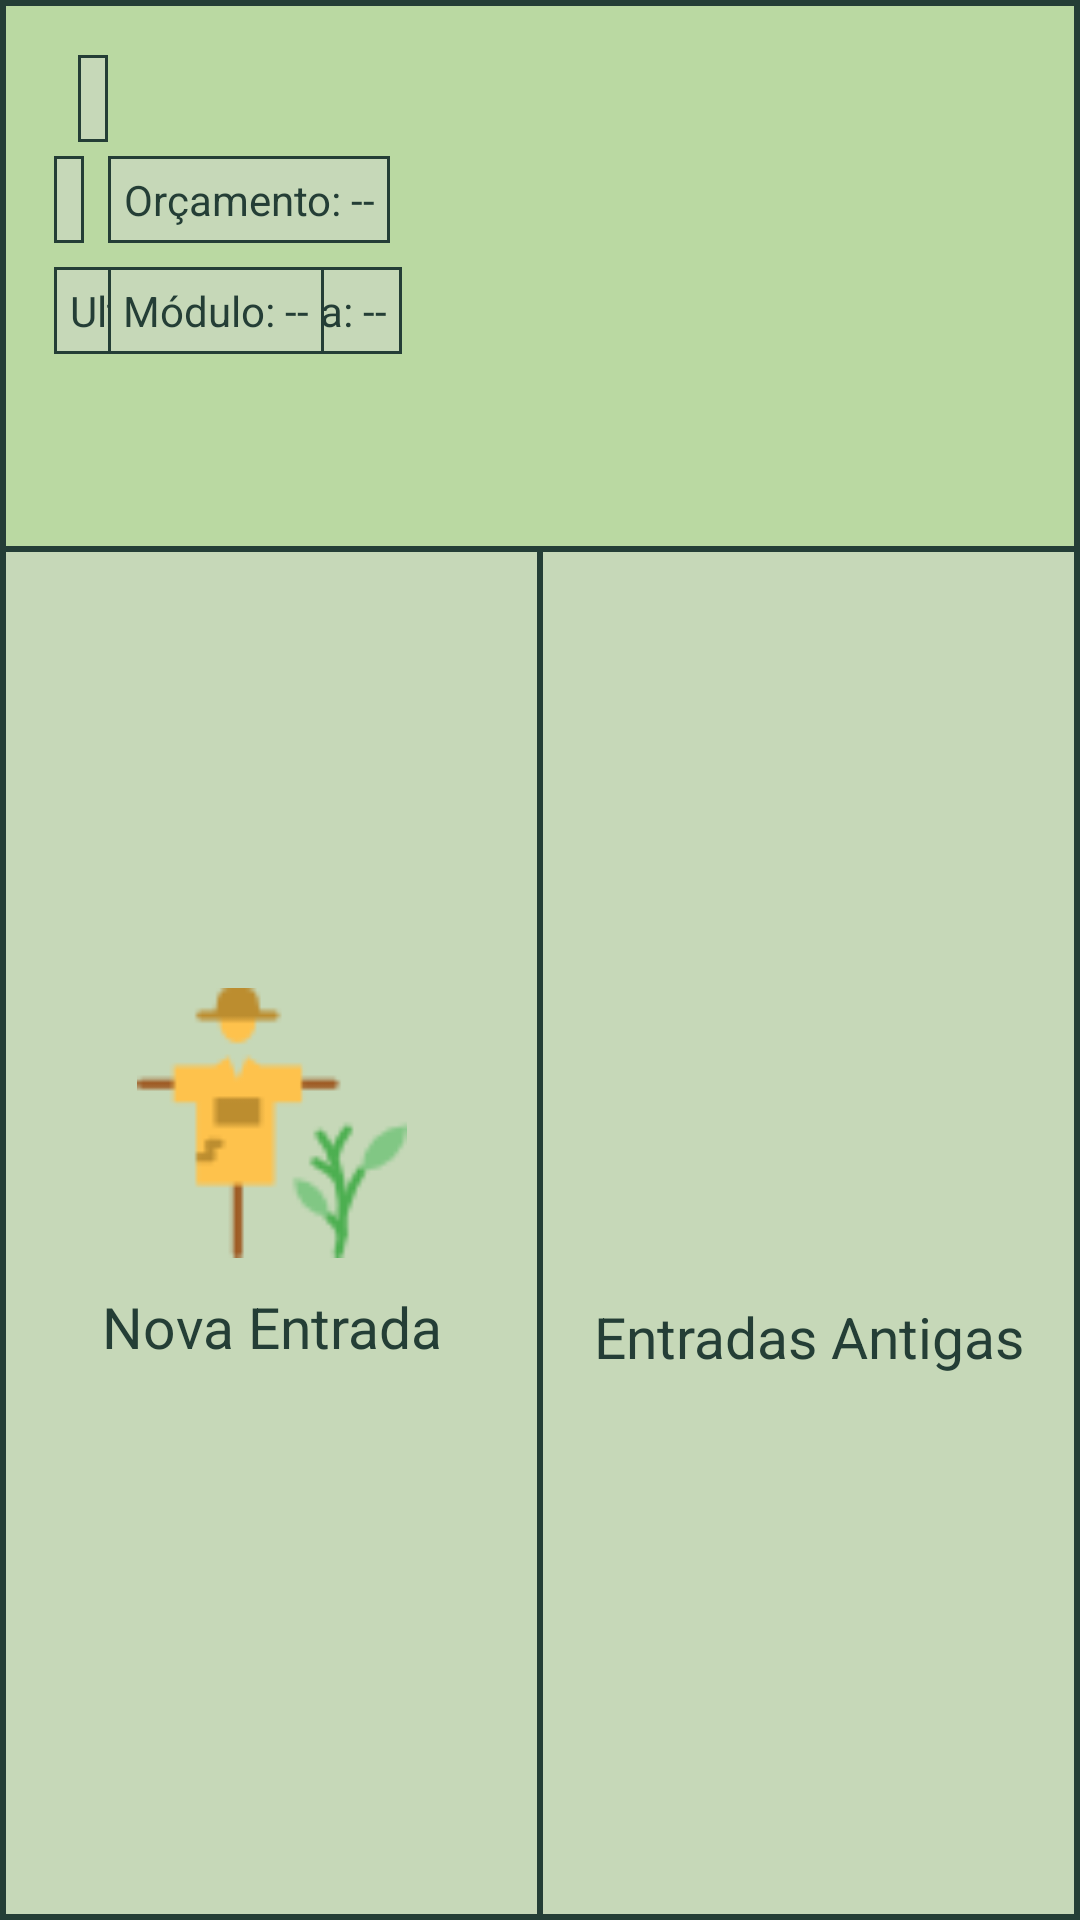

Icons on this 1080 x 1920 Android screen, each with its box as Rect(x1, y1, x2, y2):
rural: Rect(137, 988, 407, 1258)
